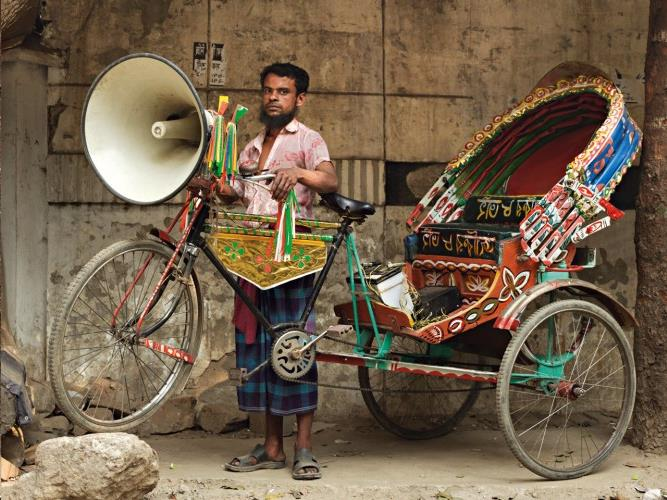Rickshaw: (47, 15, 643, 485)
